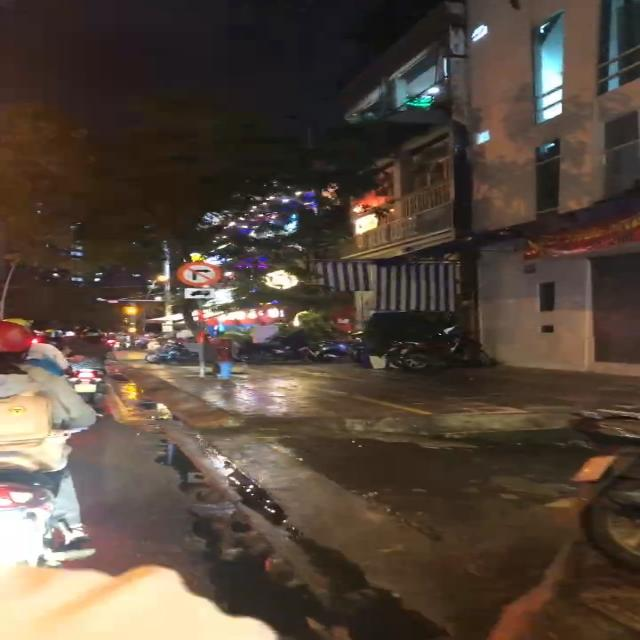Bien bao cam re phai: (172, 259, 224, 287)
